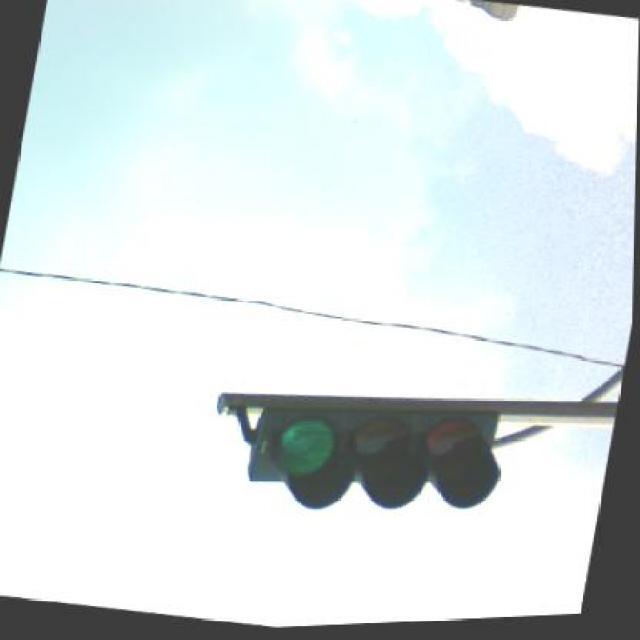green_light: (238, 378, 510, 542)
